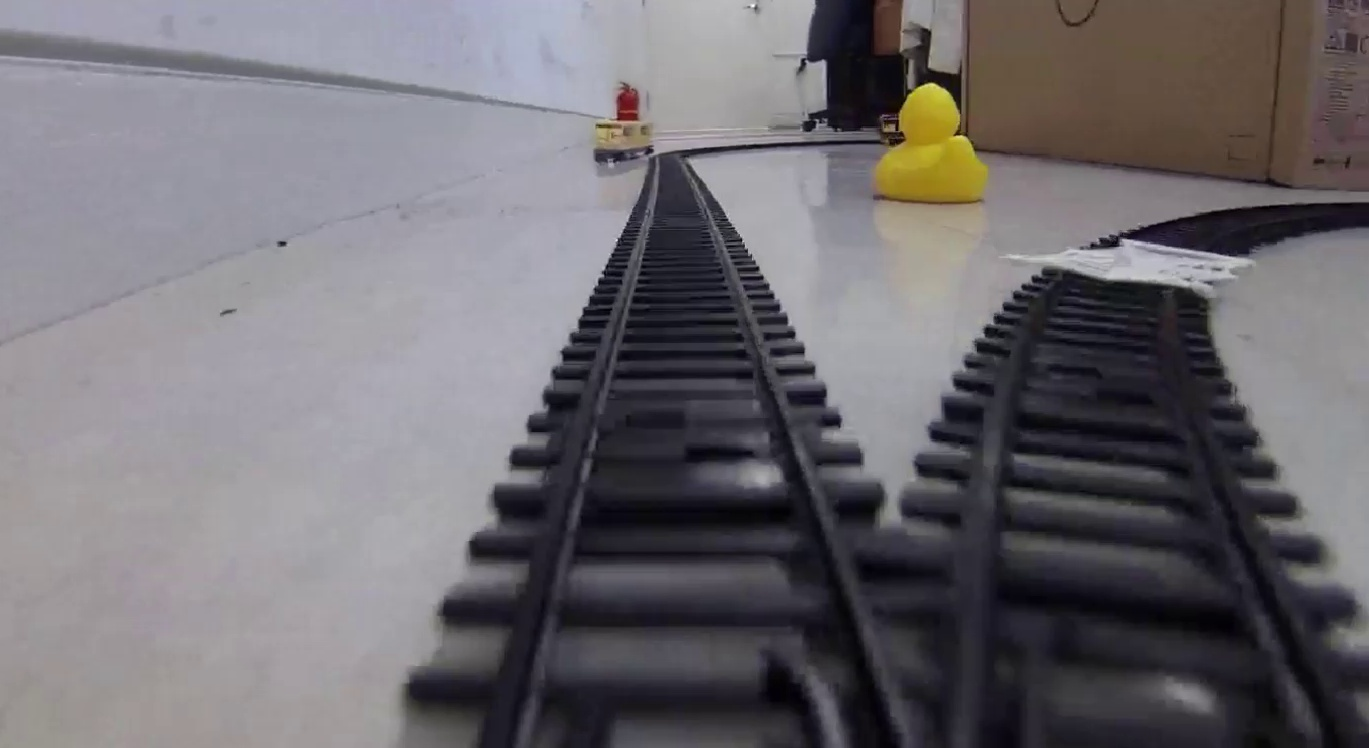web: (1010, 236, 1249, 291)
